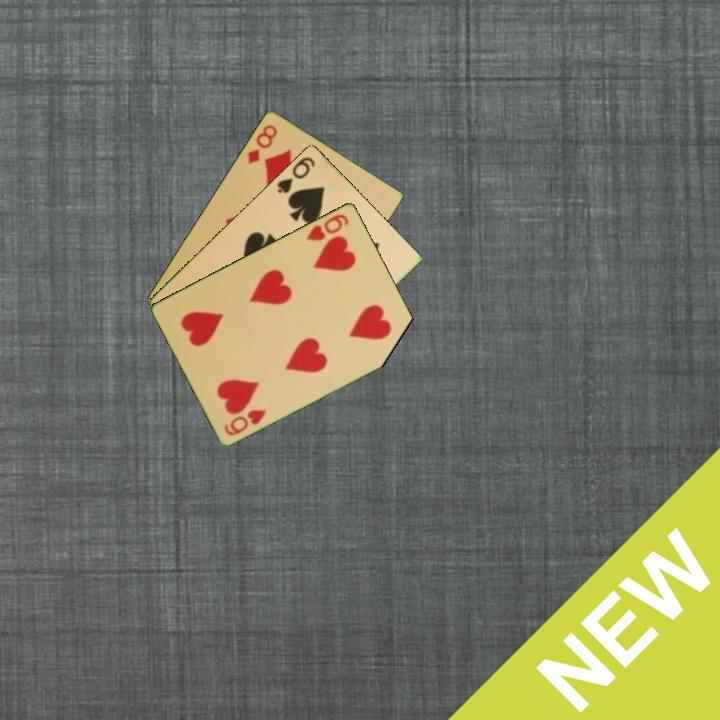6h: (303, 210, 352, 243), (221, 405, 269, 438)
6s: (273, 153, 318, 196)
8d: (244, 120, 280, 166)
